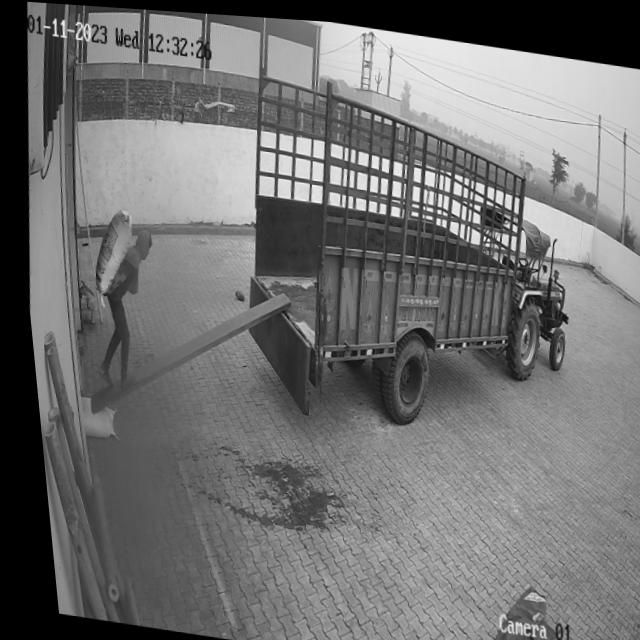sack: (82, 203, 134, 298), (67, 393, 110, 440)
